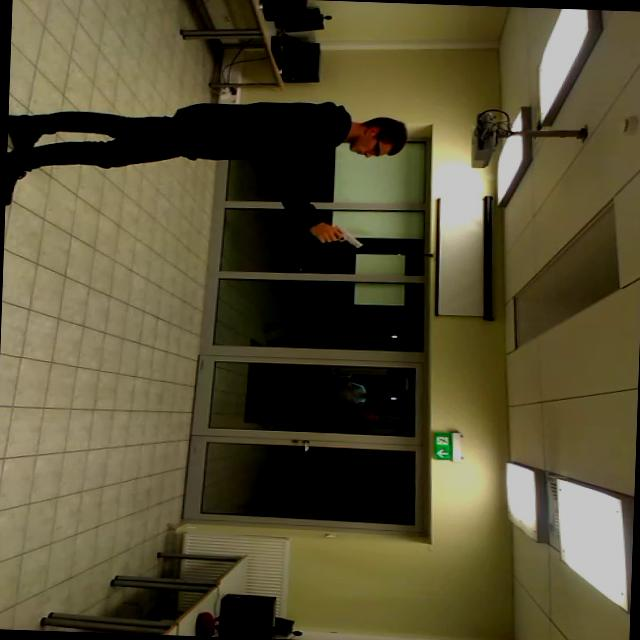handgun: (312, 216, 375, 260)
